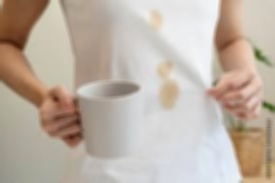coffee: (160, 79, 179, 111), (148, 9, 164, 32), (157, 61, 175, 79)
